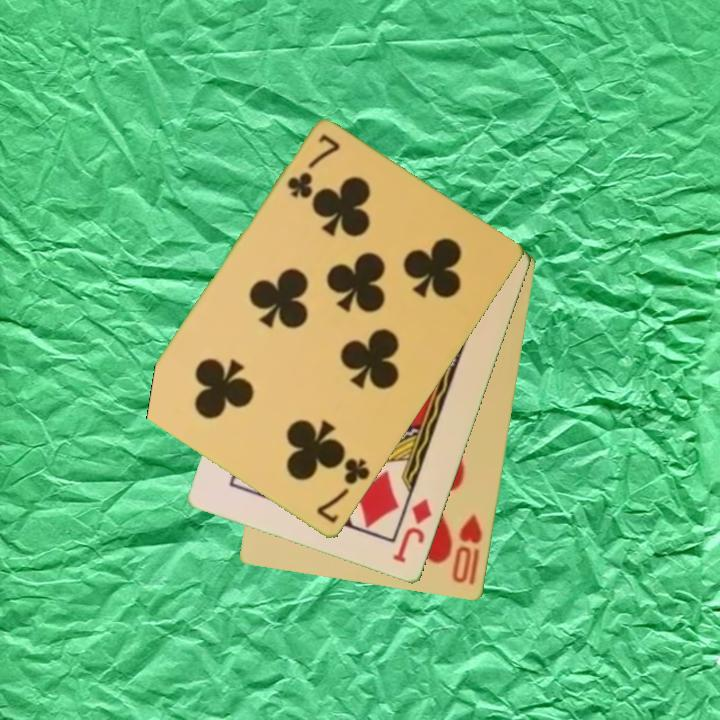10h: (449, 511, 486, 588)
7c: (283, 131, 344, 202), (313, 455, 373, 527)
Jd: (389, 495, 435, 567)
